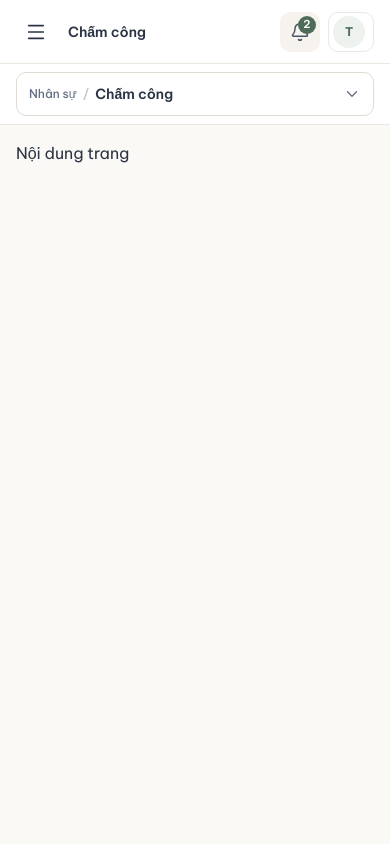
Test: AppShell print › hides every shell landmark for print and lets main span the page without padding
The width and height of the screenshot is (390, 844).
// Open the mobile drawer too, so its aside is in the DOM.
Step 1. Click the button named "Mở điều hướng chính" → (36, 32), box [16,12,56,52]
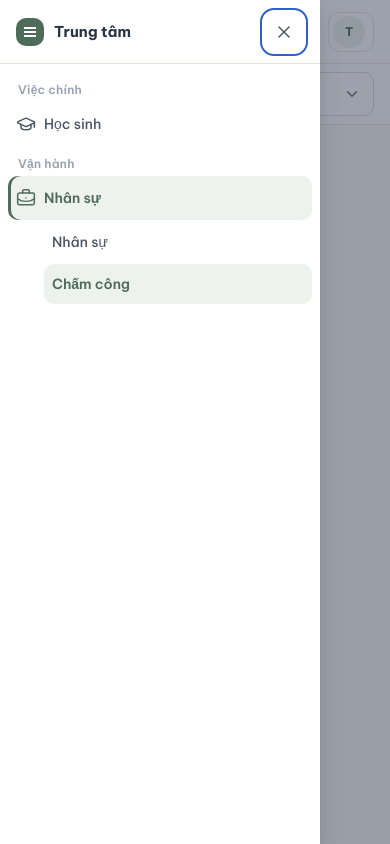
Expected: the header is shown, [0,0,389,64]
Now the dialog named "Điều hướng chính" is shown
Now the dialog is shown
